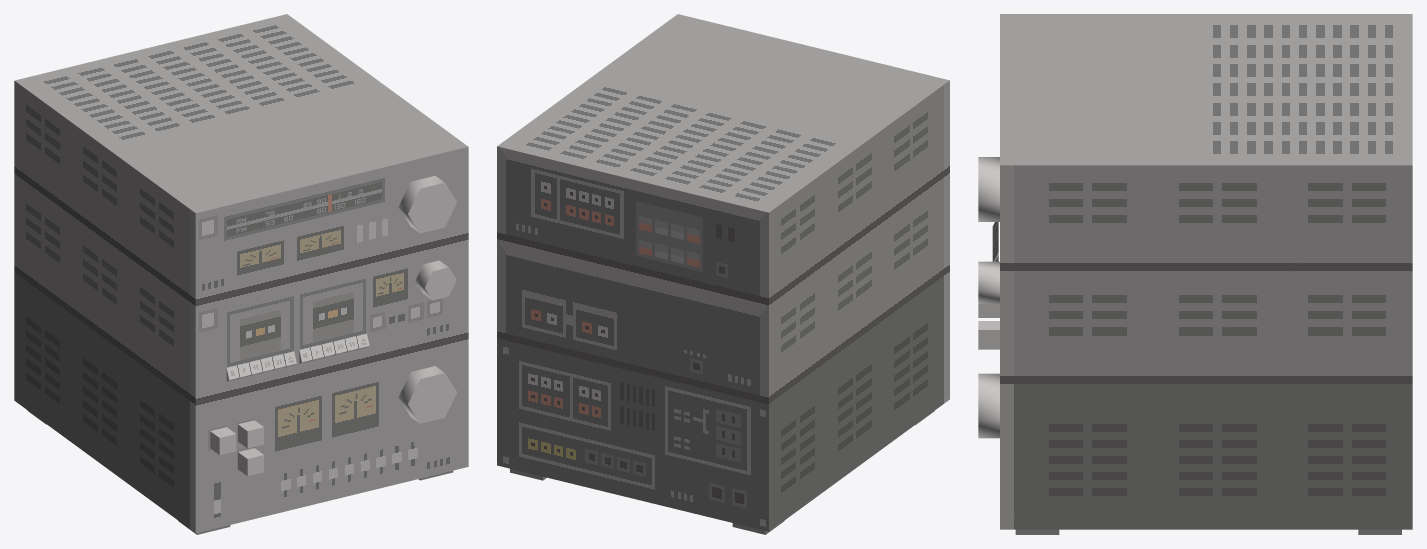
File: 0174_Stereo.glb
3 renders of one model, left to right at view 1: azimuth 30°, elevation 25°; view 2: azimuth 150°, elevation 25°; view 3: azimuth 270°, elevation 25°, orthographic. The views are drawn at different scales.
Visible parts, largest first — view 1: part_0; view 2: part_0; view 3: part_0.
Part boxes in pixels (x1,y1,x2,y2): part_0: [14, 14, 468, 534]; part_0: [497, 14, 949, 534]; part_0: [978, 14, 1412, 534].
Size of the model in its own units: 0.33 by 0.38 by 0.4.
1 material, 1 textured.
